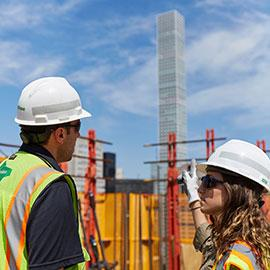helmet: (194, 139, 270, 196), (16, 78, 93, 128)
